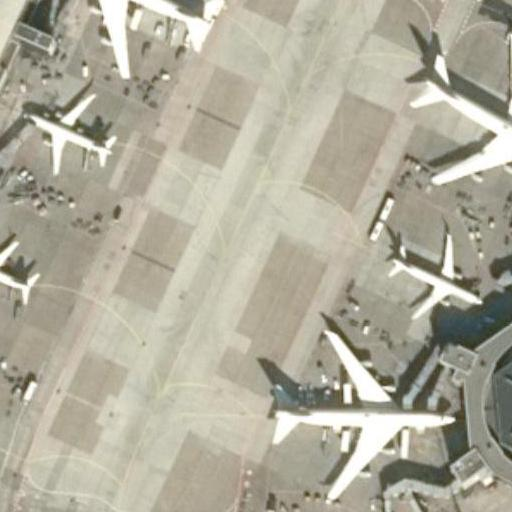Aircraft: (262, 316, 457, 501), (264, 325, 454, 500), (399, 16, 512, 183), (405, 31, 512, 187), (37, 0, 227, 78), (42, 0, 224, 76), (380, 226, 483, 318), (15, 89, 121, 178), (382, 231, 484, 321), (19, 89, 118, 176), (0, 229, 42, 313), (0, 234, 42, 311), (503, 0, 512, 2)
